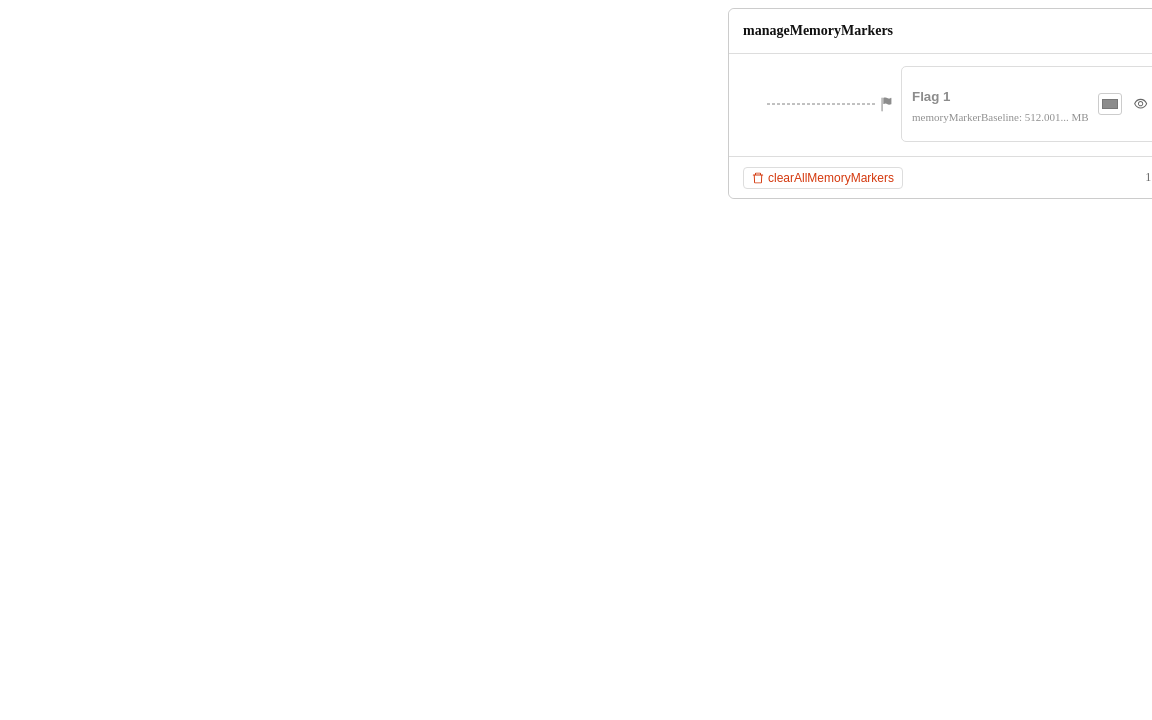
Test: LifecycleMemoryMarkerManager › replaces the compact baseline with the unrounded value while hovered
The width and height of the screenshot is (1152, 720).
Hover over the text with test id "memoryMarkerBaseline" at x=1003, y=116, box [912,110,1094,122]
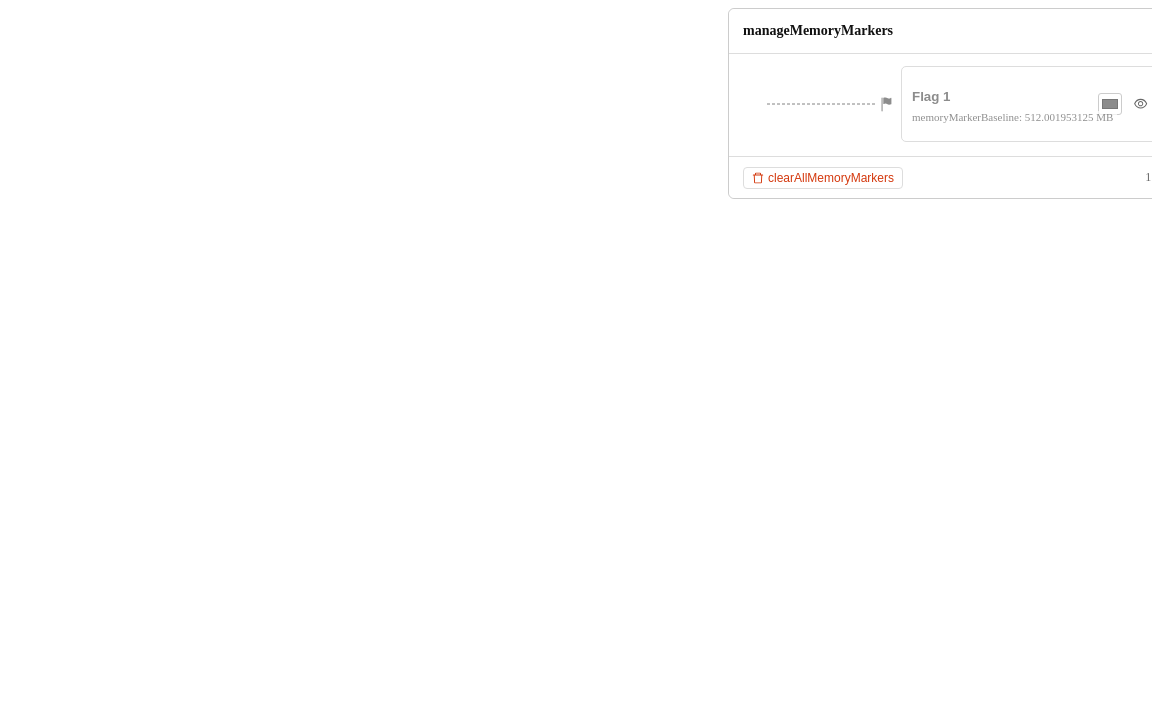
Expected: the text with test id "memoryMarkerBaseline" reads "memoryMarkerBaseline: 512.001953125 MB"
Move the pointer off the text with test id "memoryMarkerBaseline", box [912,110,1117,122]
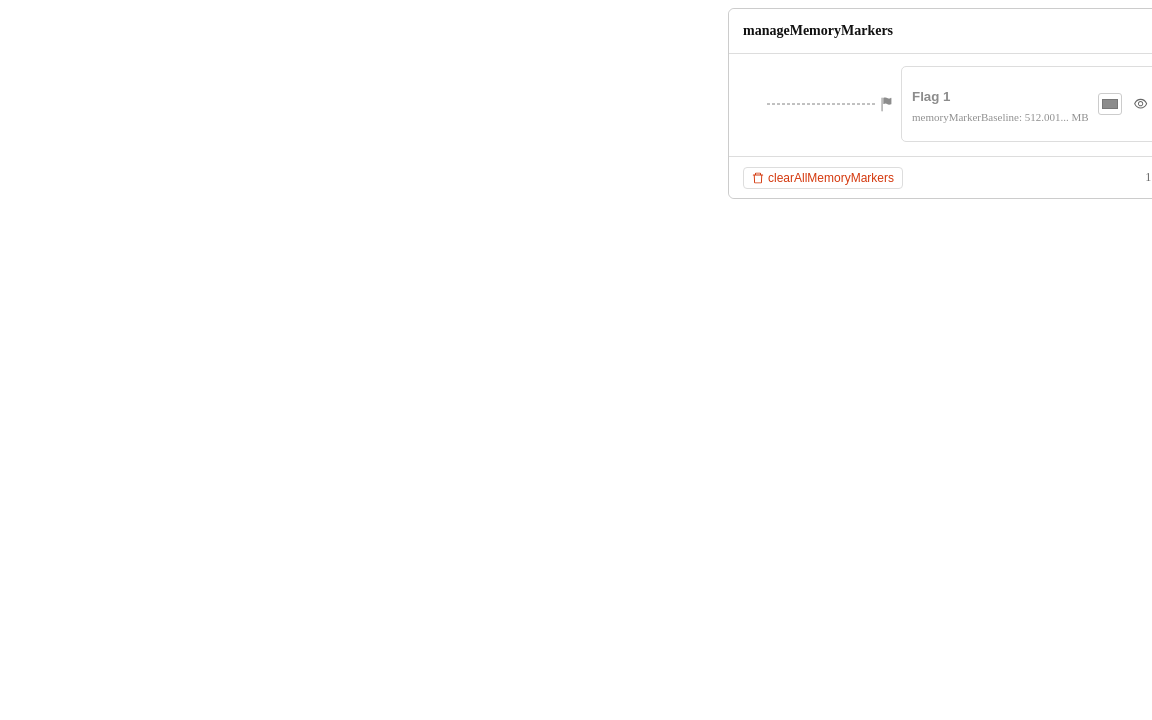
Expected: the text with test id "memoryMarkerBaseline" reads "memoryMarkerBaseline: 512.001... MB", [912,110,1089,122]
